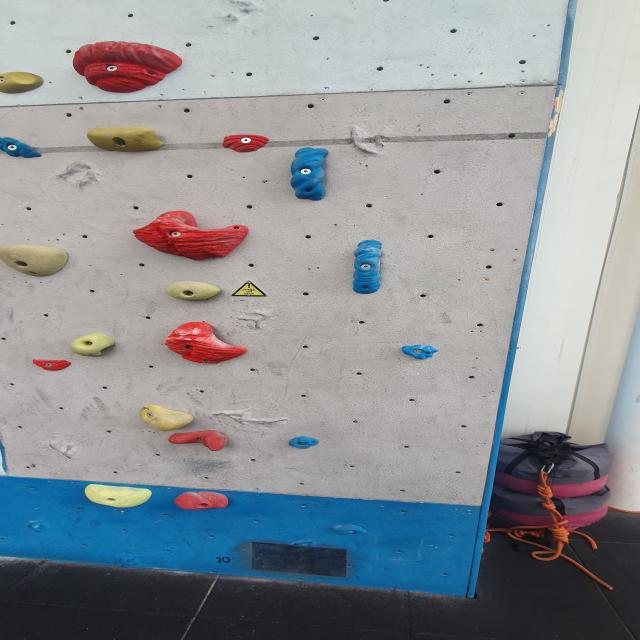Crimp: (82, 484, 154, 509), (0, 72, 45, 95), (0, 137, 44, 158), (220, 135, 272, 152), (32, 358, 74, 372), (399, 345, 441, 359), (287, 439, 322, 450)
Jug: (131, 211, 253, 260), (74, 45, 188, 97), (161, 323, 250, 366), (0, 246, 72, 279), (85, 126, 165, 153), (163, 281, 224, 302), (70, 334, 119, 358), (166, 432, 228, 449)
Pinch: (288, 148, 331, 201), (350, 242, 383, 296)
Sloper: (138, 406, 196, 433), (174, 492, 233, 511)
